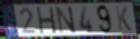2: (19, 7, 37, 35)
4: (79, 5, 93, 34)
9: (96, 5, 114, 35)
H: (35, 6, 57, 34)
K: (115, 5, 133, 32)
N: (55, 6, 78, 35)
